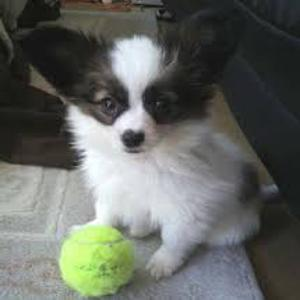yell: (18, 7, 264, 279)
